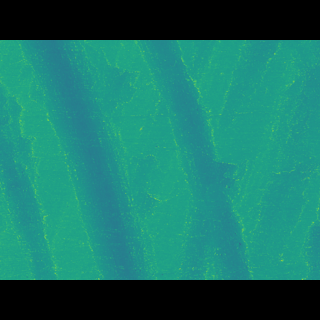Loch: (12, 69, 165, 248), (130, 70, 259, 250), (0, 102, 66, 250)
